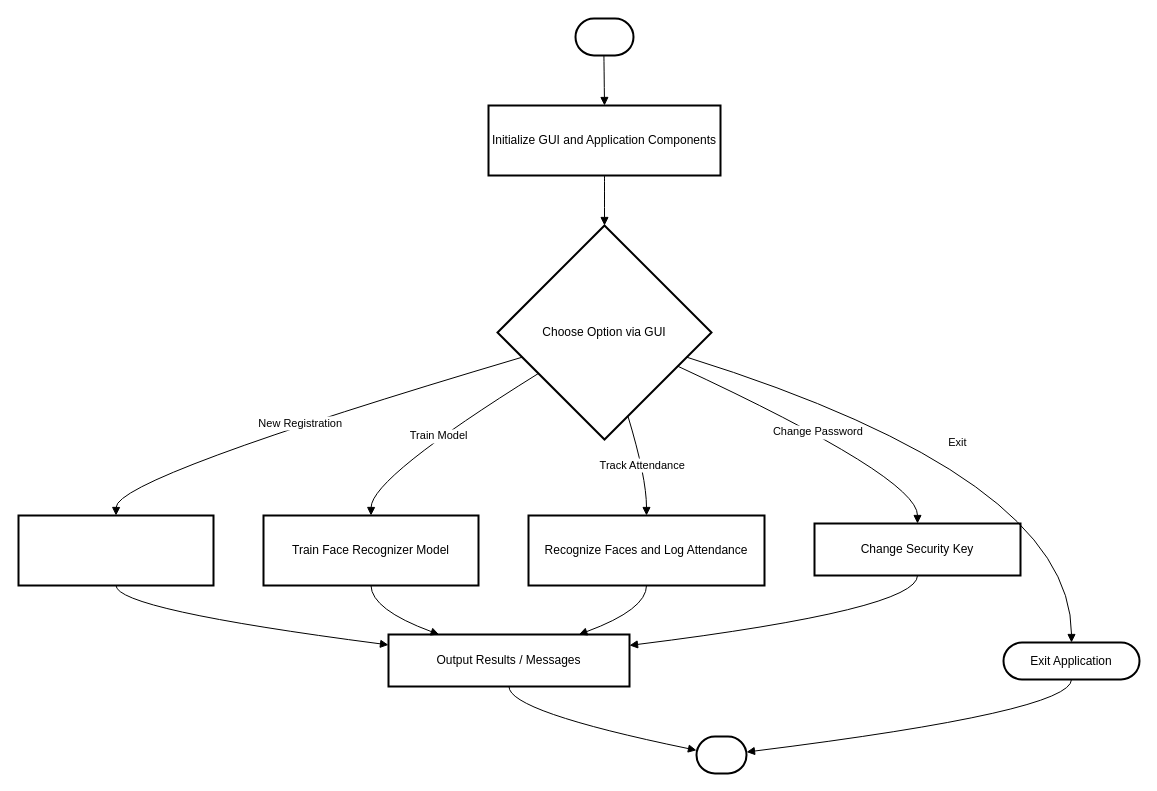
This 1157x791 diagram has some shape labels left out. Each missing label, with the centre of its shape:
Capture Images for Registration: (115,550)
End: (721,754)
Start: (604,36)
